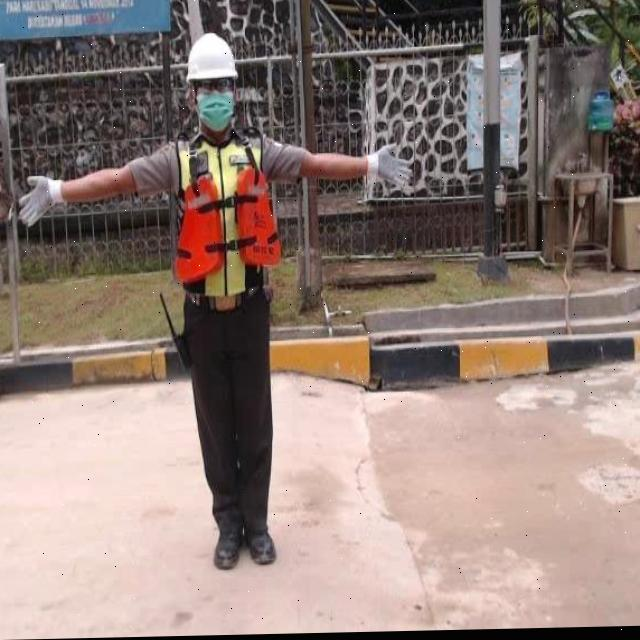Gloves: (16, 175, 64, 228), (366, 144, 413, 193)
Helmet: (184, 31, 239, 83)
Safety-Vest: (172, 131, 280, 298)
